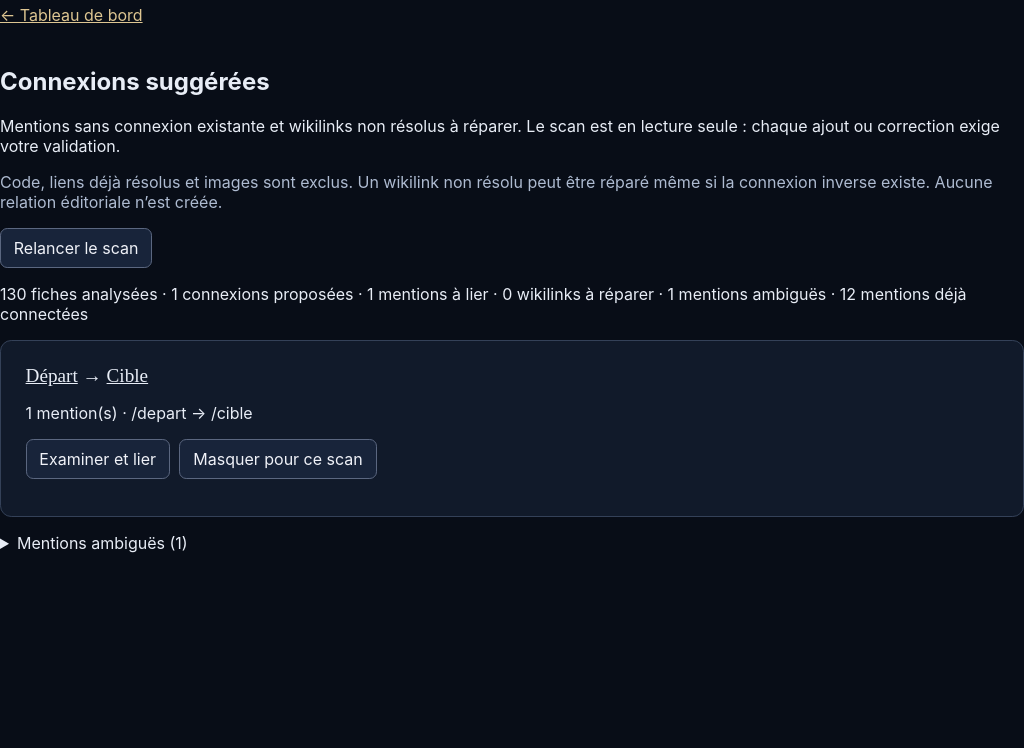
Scenario: scan des connexions › submits the approved fingerprint once despite double clicks, refreshes the scan and reports the revision
Expected: the text "130 fiches analysées" is shown, [0,284,1023,324]
Click the button "Examiner et lier". click: (98,459)
box: [26,439,170,479]
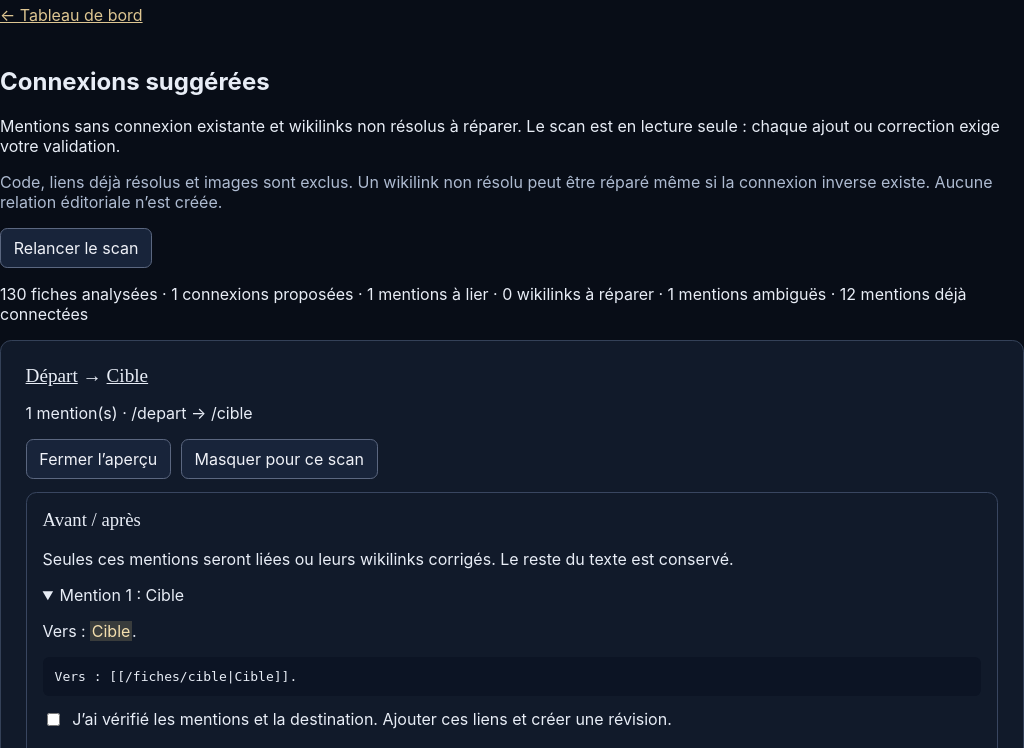
Click the checkbox. click: (53,720)
box: [47,713,60,726]
(page scrolled)
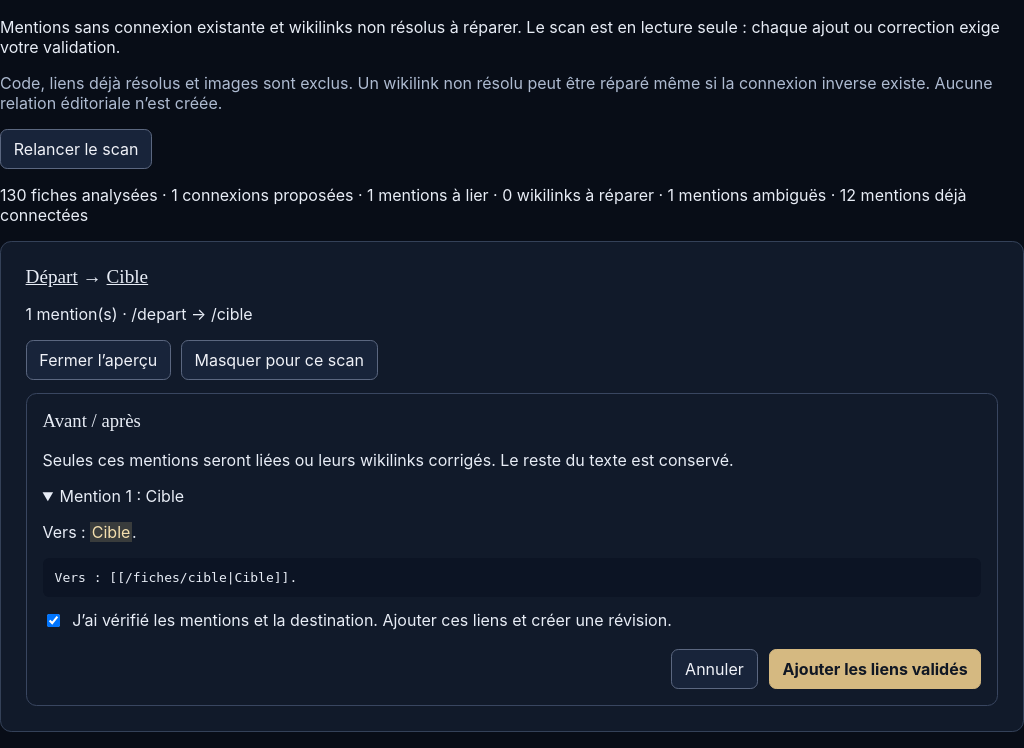
Click the button "Ajouter les liens validés". click: (875,669)
box: [769,650,981,689]
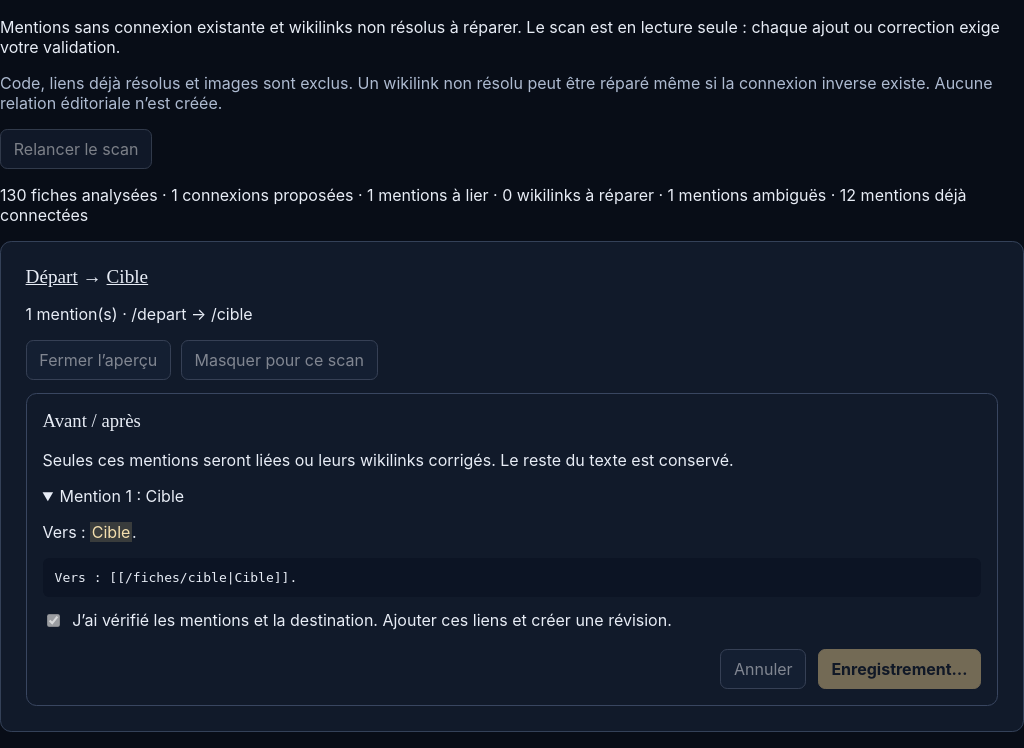
Click the button named "Ajouter les liens validés". click: (900,669)
box: [818,650,981,689]
(page scrolled)
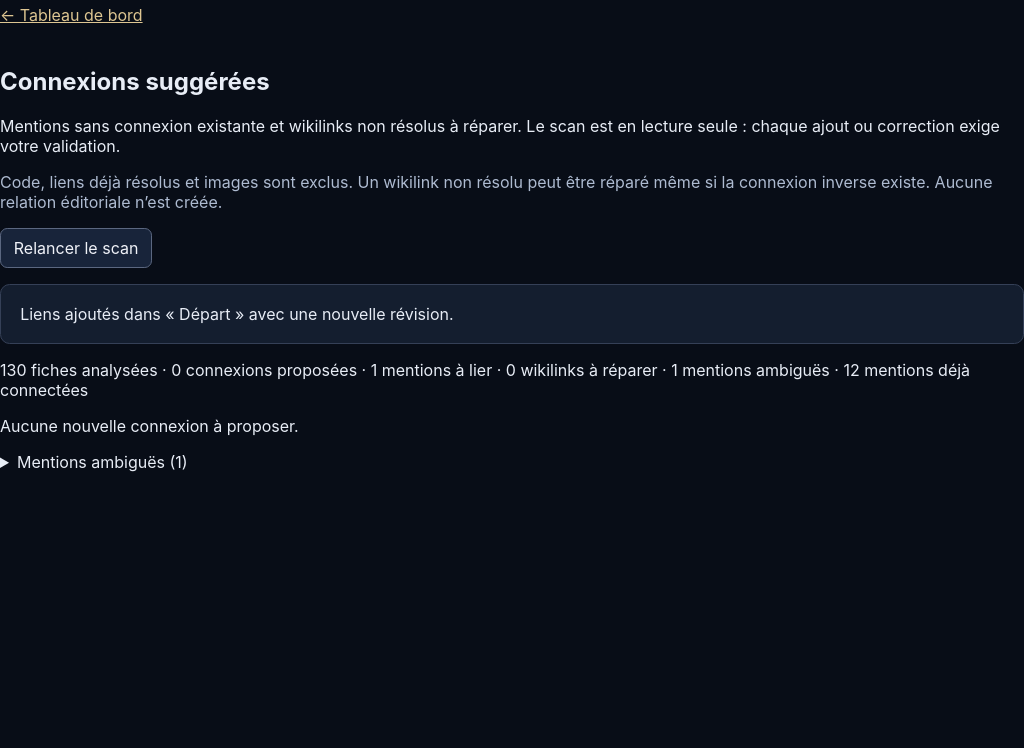
Result: the text "Liens ajoutés dans « Départ » avec une nouvelle révision." is shown at [0,284,1023,344]
